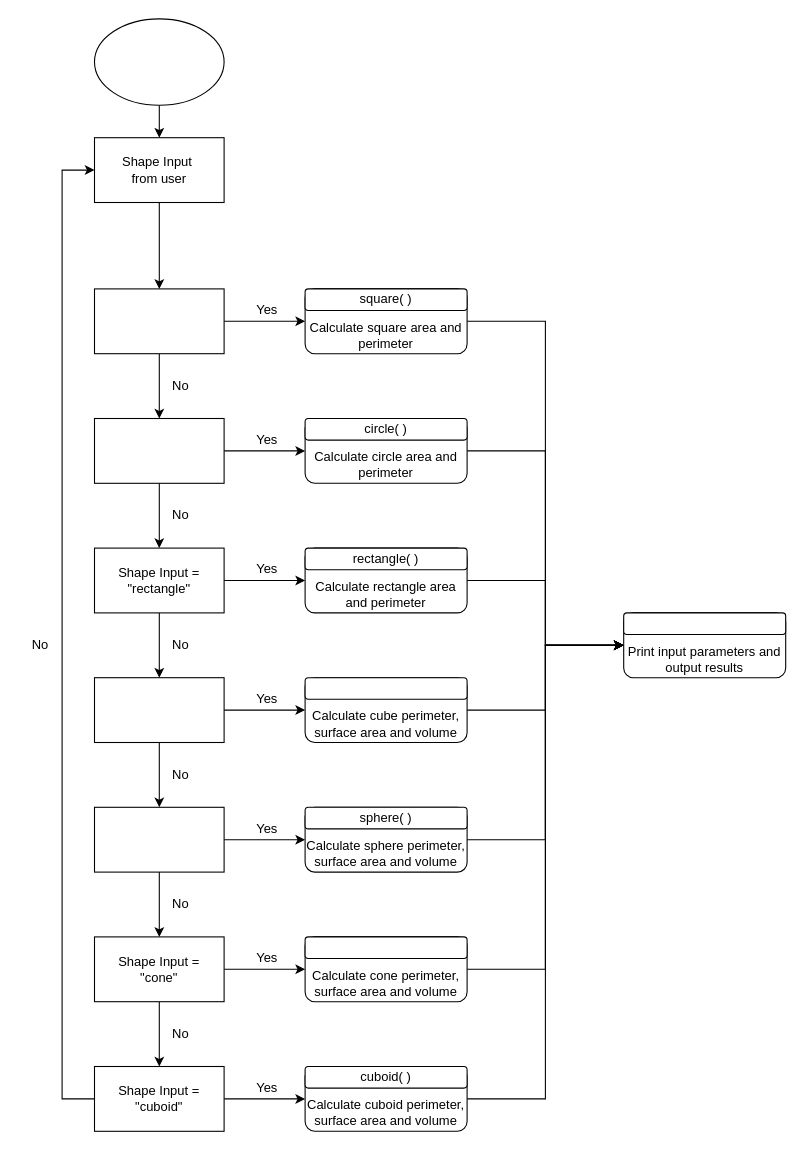
Some shapes in this 805 by 1150 pixel diagram are drawn without their labels. The centre of each missing label's shape, as x and y in pixels:
cone( ): the point at 385,947
cube( ): the point at 385,688
main( ): the point at 158,61
output(): the point at 704,623
Shape Input = "circle": the point at 158,450
Shape Input = "cube": the point at 158,709
Shape Input = "sphere": the point at 158,839
Shape Input = "square": the point at 158,321
